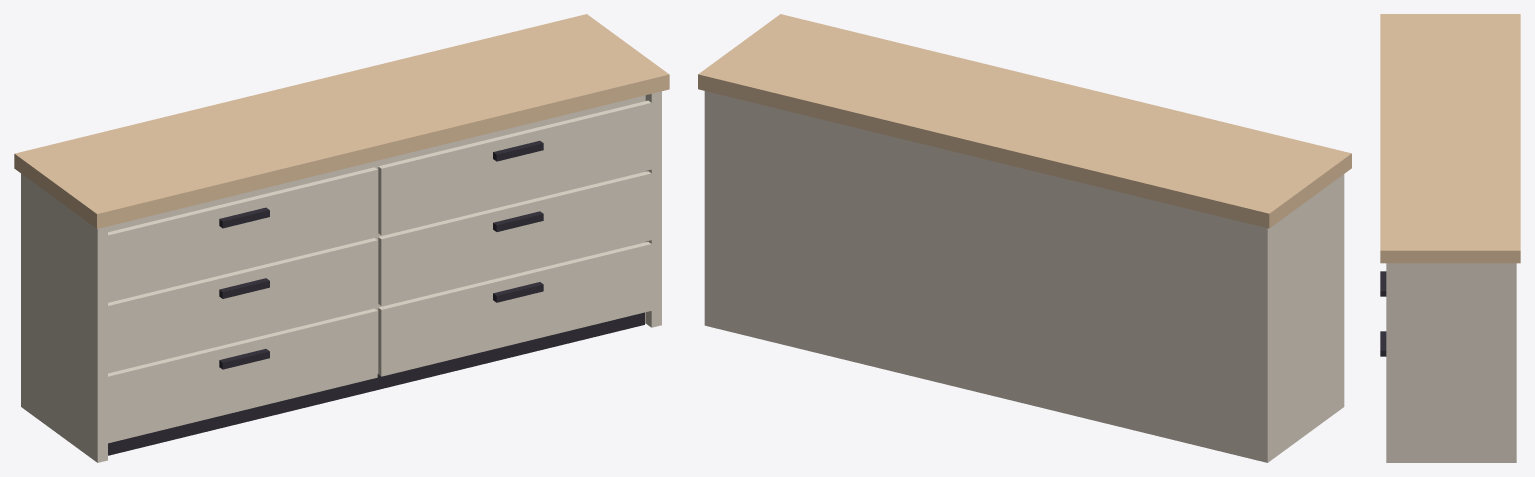
Rendered from show_bedroom_dresser.glb.
The picture shows the model from 3 angles, left to right: view 1: azimuth 30°, elevation 25°; view 2: azimuth 150°, elevation 25°; view 3: azimuth 270°, elevation 25°; orthographic projection. The views are drawn at different scales.
Size of the model in its own units: 2.8 by 1.18 by 0.7.
